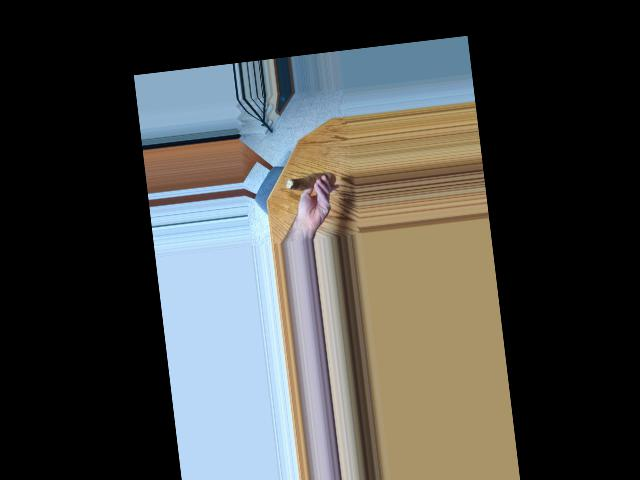sweet_potato: (289, 166, 332, 190)
